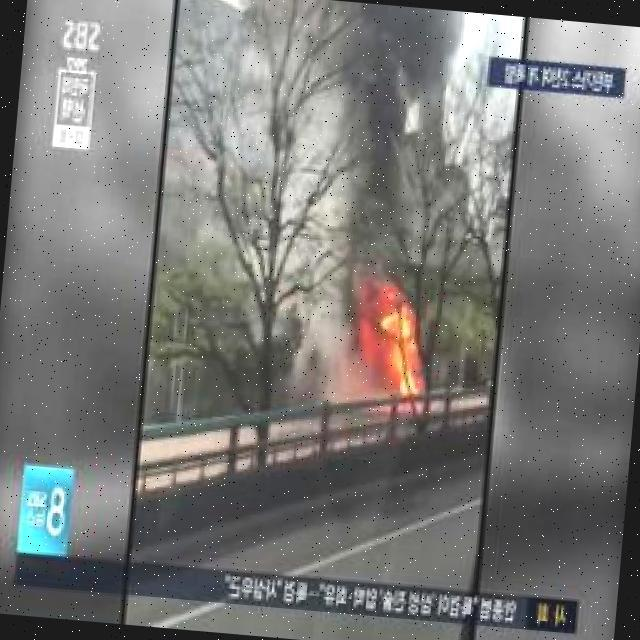Fire: (347, 289, 434, 396)
